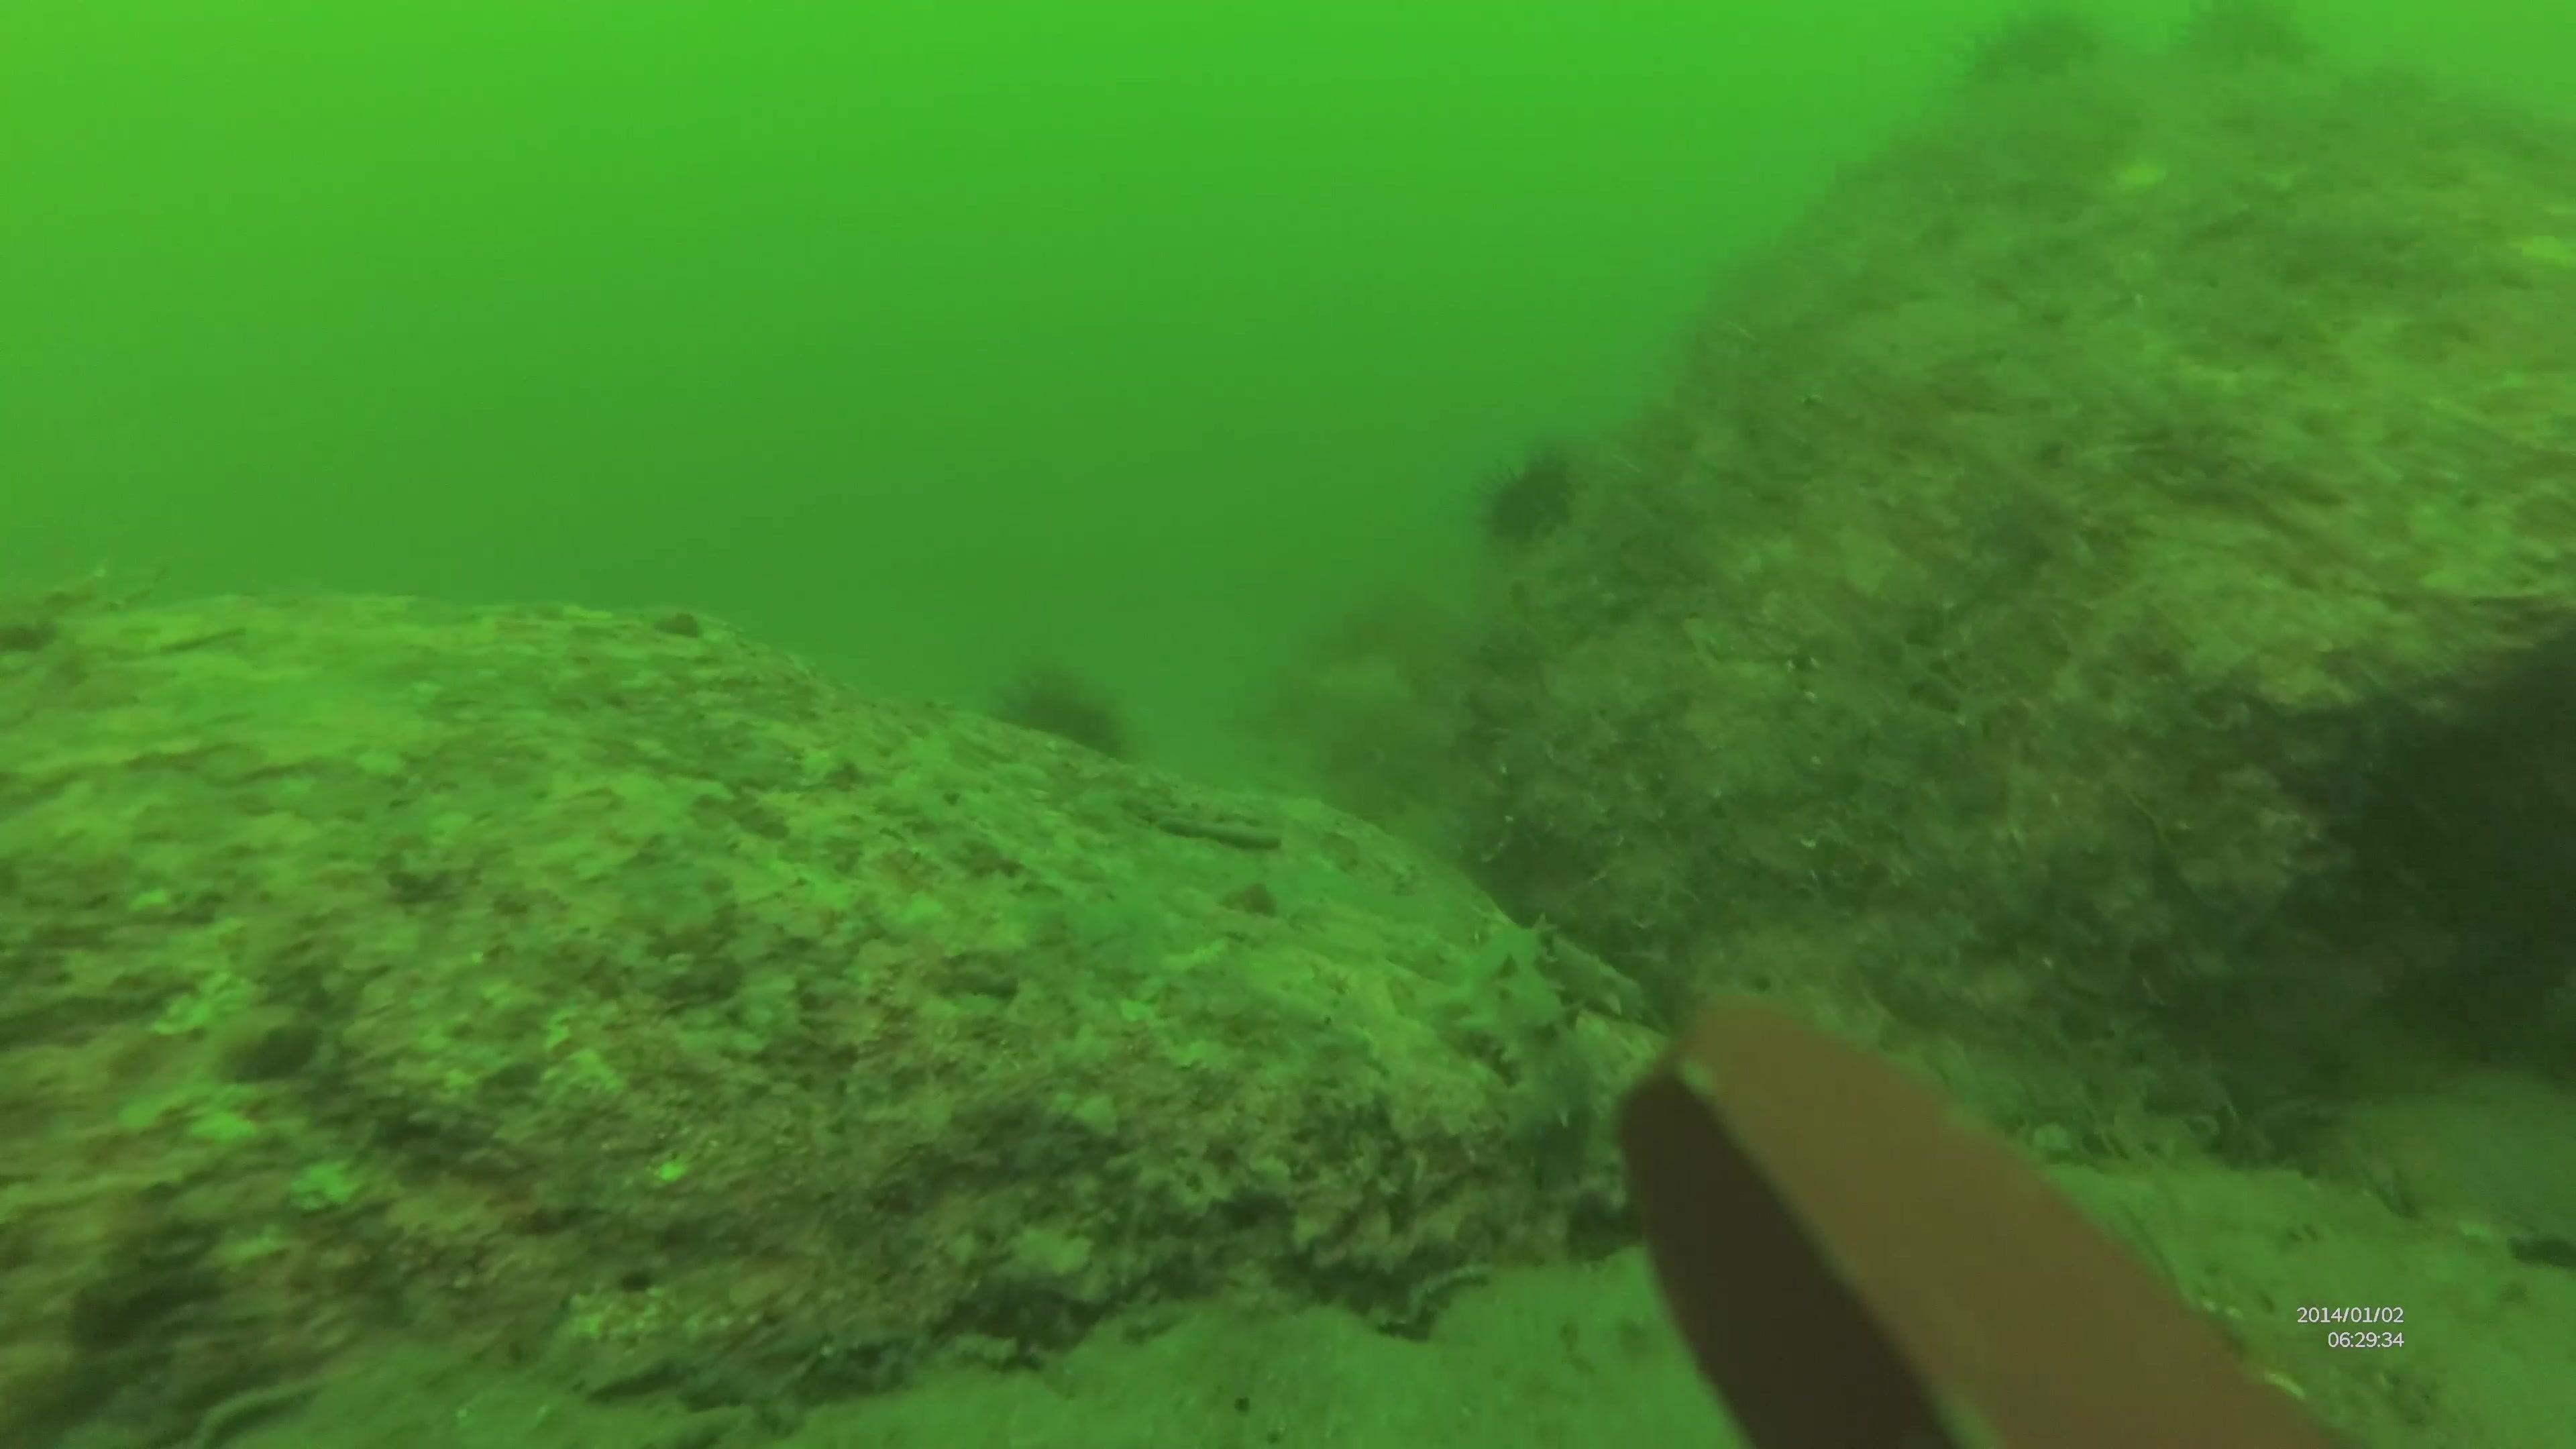echinus: (989, 662, 1152, 782), (1479, 425, 1582, 552)
holothurian: (1456, 895, 1612, 1194)
starfish: (2332, 1067, 2576, 1299)
